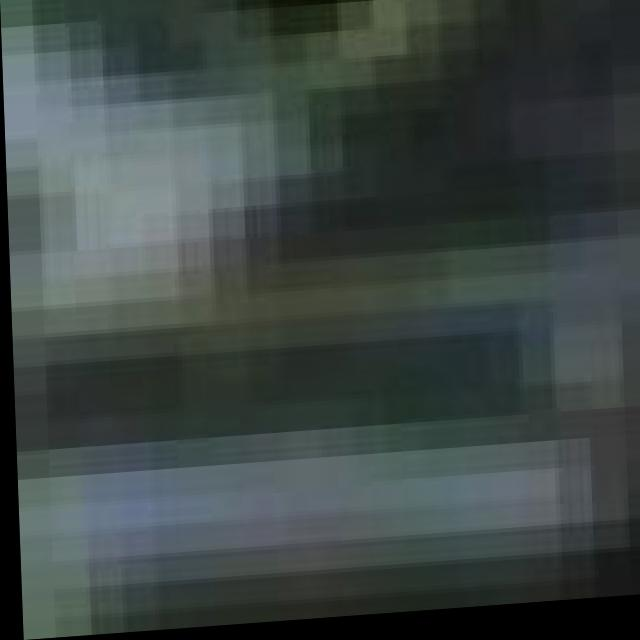transistor: (79, 491, 640, 636)
